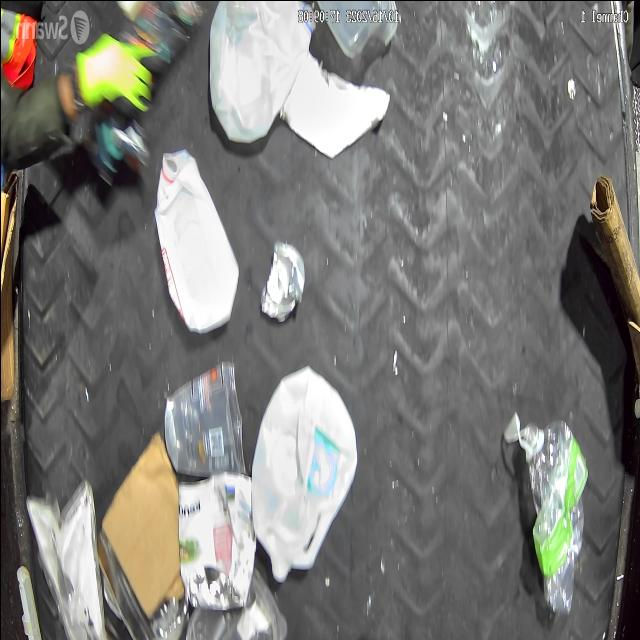milk_jug: (251, 361, 355, 575), (148, 146, 239, 324), (210, 0, 315, 137)
plastic_bottle: (520, 412, 584, 609)
